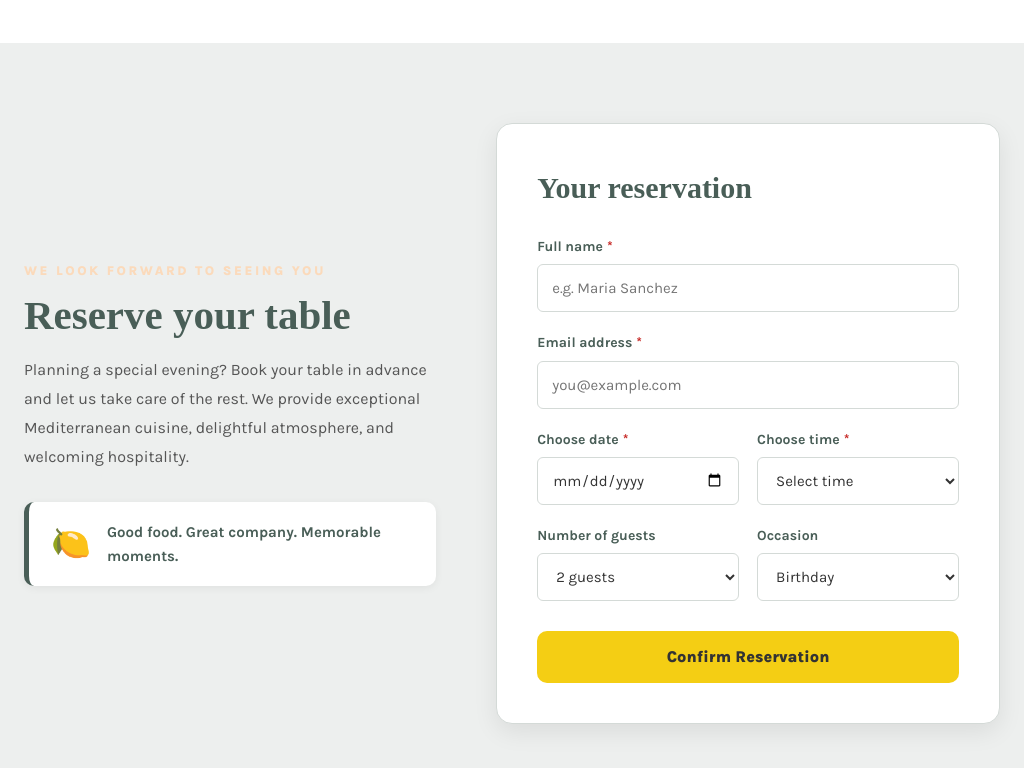
Test: Little Lemon Table Booking Application › validates invalid email address format
(page scrolled)
Type "not-an-email" into the field labelled "Email address *".
click(748, 385); type("not-an-email")  # box [537, 361, 959, 409]
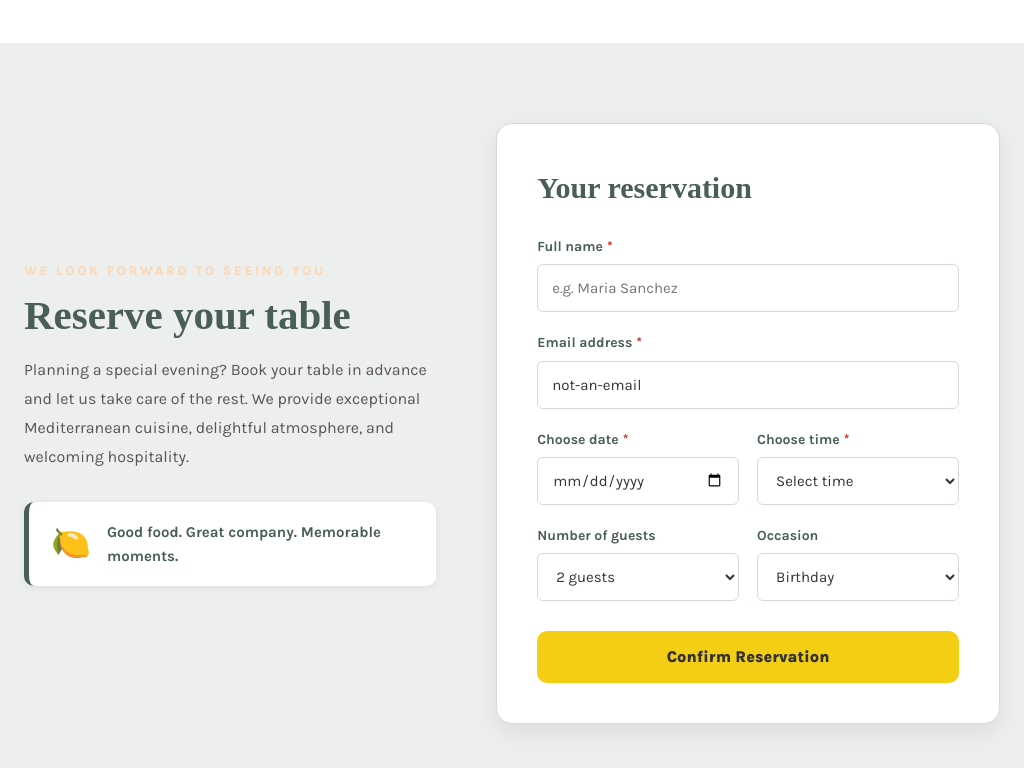
Leave the field labelled "Email address *", box [537, 361, 959, 409]
(page scrolled)
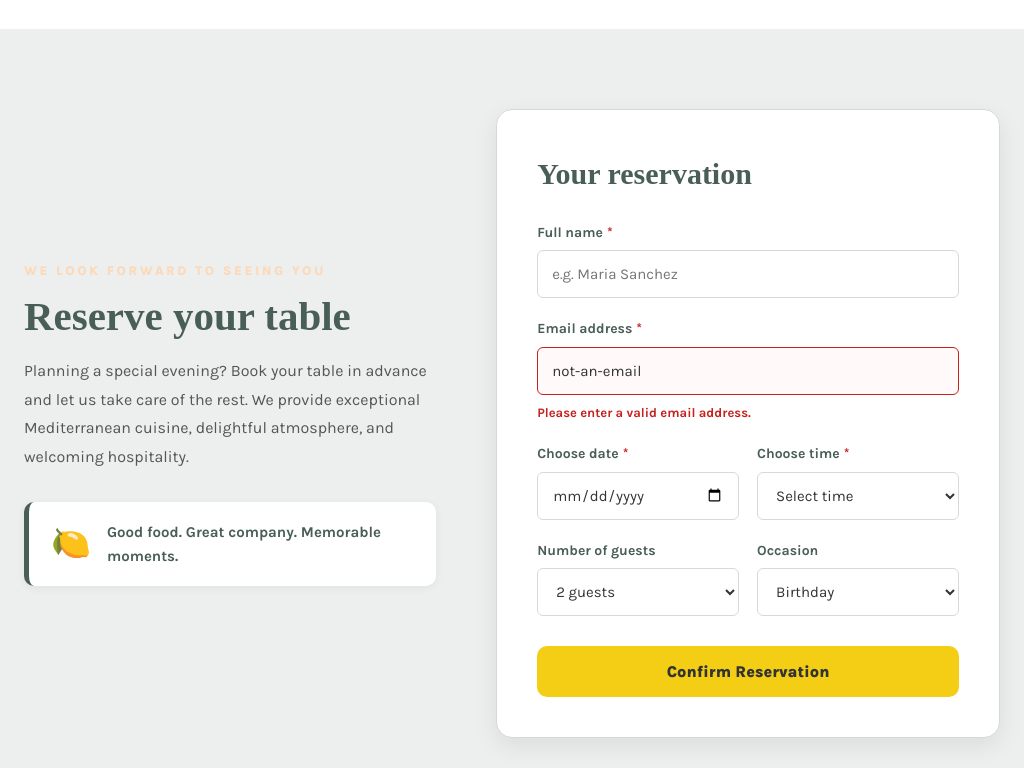
Expected: the text "Please enter a valid email address." is shown, [537, 405, 751, 420]
